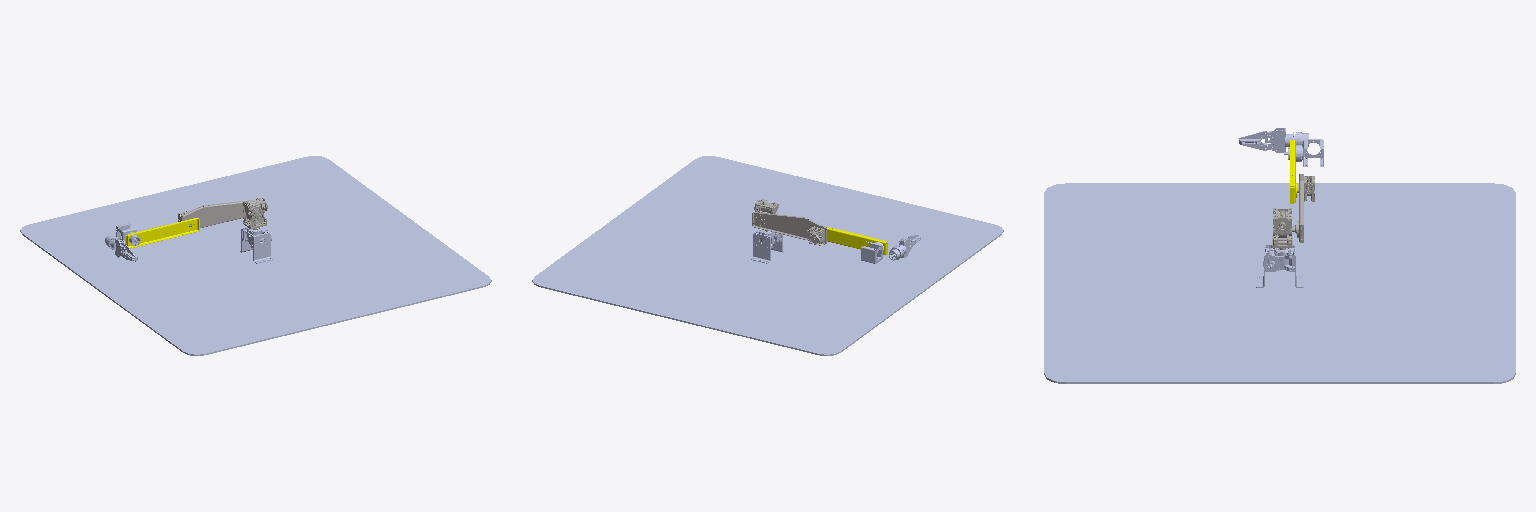
URDF robot description (skai_arm):
<?xml version="1.0" encoding="utf-8"?>
<!-- This URDF was automatically created by SolidWorks to URDF Exporter! Originally created by Stephen Brawner (brawner@gmail.com) 
     Commit Version: 1.6.0-4-g7f85cfe  Build Version: 1.6.7995.38578
     For more information, please see http://wiki.ros.org/sw_urdf_exporter -->
<robot
  name="skai_arm">
  <link
    name="base_link">
    <inertial>
      <origin
        xyz="6.661E-05 -6.7654E-05 -0.0023074"
        rpy="0 0 0" />
      <mass
        value="49.417" />
      <inertia
        ixx="19.424"
        ixy="0.0001122"
        ixz="-1.4598E-06"
        iyy="19.424"
        iyz="5.3023E-06"
        izz="38.846" />
    </inertial>
    <visual>
      <origin
        xyz="0 0 0"
        rpy="0 0 0" />
      <geometry>
        <mesh
          filename="package://arm_rviz/meshes/BASE.STL" />
      </geometry>
      <material
        name="gray">
        <color
          rgba="0.79216 0.81961 0.93333 1" />
      </material>
    </visual>
    <collision>
      <origin
        xyz="0 0 0"
        rpy="0 0 0" />
      <geometry>
        <mesh
          filename="package://arm_rviz/meshes/BASE.STL" />
      </geometry>
    </collision>
  </link>
  <link
    name="J_1">
    <inertial>
      <origin
        xyz="0.0030632 -0.00037054 0.19009"
        rpy="0 0 0" />
      <mass
        value="1.089" />
      <inertia
        ixx="0.0018485"
        ixy="-1.4598E-06"
        ixz="-0.00011196"
        iyy="0.0024341"
        iyz="-5.3023E-06"
        izz="0.001692" />
    </inertial>
    <visual>
      <origin
        xyz="0 0 0"
        rpy="0 0 0" />
      <geometry>
        <mesh
          filename="package://arm_rviz/meshes/J_1.STL" />
      </geometry>
      <material
        name="gray">
        <color
          rgba="0.7451 0.73725 0.72941 1" />
      </material>
    </visual>
    <collision>
      <origin
        xyz="0 0 0"
        rpy="0 0 0" />
      <geometry>
        <mesh
          filename="package://arm_rviz/meshes/J_1.STL" />
      </geometry>
    </collision>
  </link>
  <joint
    name="ROT_1"
    type="revolute">
    <origin
      xyz="0 0.012 0.082"
      rpy="0 0 0" />
    <parent
      link="base_link" />
    <child
      link="J_1" />
    <axis
      xyz="0 0 -1" />
    <limit
      lower="-3.14"
      upper="3.14"
      effort="10"
      velocity="0.1" />
  </joint>
  <link
    name="J_2">
    <inertial>
      <origin
        xyz="-0.25856 0.13854 0.13905"
        rpy="0 0 0" />
      <mass
        value="0.721" />
      <inertia
        ixx="0.0019755"
        ixy="0.0020808"
        ixz="-3.9585E-06"
        iyy="0.004707"
        iyz="1.0786E-06"
        izz="0.00632" />
    </inertial>
    <visual>
      <origin
        xyz="0 0 0"
        rpy="0 0 0" />
      <geometry>
        <mesh
          filename="package://arm_rviz/meshes/J_2.STL" />
      </geometry>
      <material
        name="gray">
        <color
          rgba="0.7451 0.73725 0.72941 1" />
      </material>
    </visual>
    <collision>
      <origin
        xyz="0 0 0"
        rpy="0 0 0" />
      <geometry>
        <mesh
          filename="package://arm_rviz/meshes/J_2.STL" />
      </geometry>
    </collision>
  </link>
  <joint
    name="PITCH_1"
    type="revolute">
    <origin
      xyz="0 -0.046 0.194"
      rpy="-1.5708 0.5236 0" />
    <parent
      link="J_1" />
    <child
      link="J_2" />
    <axis
      xyz="0 0 -1" />
    <limit
      lower="-3.14"
      upper="0"
      effort="10"
      velocity="0.1" />
  </joint>
  <link
    name="J_3">
    <inertial>
      <origin
        xyz="-0.17796 -3.4592E-06 0.0015136"
        rpy="0 0 0" />
      <mass
        value="0.21768" />
      <inertia
        ixx="0.00022662"
        ixy="3.7932E-08"
        ixz="8.2613E-06"
        iyy="0.0045022"
        iyz="-3.6856E-09"
        izz="0.0047078" />
    </inertial>
    <visual>
      <origin
        xyz="0 0 0"
        rpy="0 0 0" />
      <geometry>
        <mesh
          filename="package://arm_rviz/meshes/J_3.STL" />
      </geometry>
      <material
        name="gray">
        <color
          rgba="1 1 0 1" />
      </material>
    </visual>
    <collision>
      <origin
        xyz="0 0 0"
        rpy="0 0 0" />
      <geometry>
        <mesh
          filename="package://arm_rviz/meshes/J_3.STL" />
      </geometry>
    </collision>
  </link>
  <joint
    name="PITCH_2"
    type="revolute">
    <origin
      xyz="-0.37152 0.2145 0.103"
      rpy="3.1416 0 -0.5236" />
    <parent
      link="J_2" />
    <child
      link="J_3" />
    <axis
      xyz="0 0 -1" />
    <limit
      lower="-2.61"
      upper="2.61"
      effort="10"
      velocity="0.1" />
  </joint>
  <link
    name="J_4">
    <inertial>
      <origin
        xyz="0.0015946 0.0041989 -0.028525"
        rpy="0 0 0" />
      <mass
        value="0.2071" />
      <inertia
        ixx="0.00034764"
        ixy="1.6788E-07"
        ixz="-4.447E-08"
        iyy="0.00034785"
        iyz="-2.7415E-07"
        izz="0.00030028" />
    </inertial>
    <visual>
      <origin
        xyz="0 0 0"
        rpy="0 0 0" />
      <geometry>
        <mesh
          filename="package://arm_rviz/meshes/J_4.STL" />
      </geometry>
      <material
        name="gray">
        <color
          rgba="0.79216 0.81961 0.93333 1" />
      </material>
    </visual>
    <collision>
      <origin
        xyz="0 0 0"
        rpy="0 0 0" />
      <geometry>
        <mesh
          filename="package://arm_rviz/meshes/J_4.STL" />
      </geometry>
    </collision>
  </link>
  <joint
    name="PITCH_3"
    type="revolute">
    <origin
      xyz="-0.408999999999995 0 -0.0160000000000003"
      rpy="0 0 1.93219930379001" />
    <parent
      link="J_3" />
    <child
      link="J_4" />
    <axis
      xyz="0 0 1" />
    <limit
      lower="-3.14"
      upper="3.14"
      effort="10"
      velocity="0.1" />
  </joint>
  <link
    name="J_5">
    <inertial>
      <origin
        xyz="-0.010801 -0.028638 -0.054011"
        rpy="0 0 0" />
      <mass
        value="0.26474" />
      <inertia
        ixx="0.00046905"
        ixy="-7.8272E-06"
        ixz="-1.1352E-05"
        iyy="0.00045114"
        iyz="-2.9949E-05"
        izz="0.0004929" />
    </inertial>
    <visual>
      <origin
        xyz="0 0 0"
        rpy="0 0 0" />
      <geometry>
        <mesh
          filename="package://arm_rviz/meshes/J_5.STL" />
      </geometry>
      <material
        name="gray">
        <color
          rgba="0.79216 0.81961 0.93333 1" />
      </material>
    </visual>
    <collision>
      <origin
        xyz="0 0 0"
        rpy="0 0 0" />
      <geometry>
        <mesh
          filename="package://arm_rviz/meshes/J_5.STL" />
      </geometry>
    </collision>
  </link>
  <joint
    name="ROT_2"
    type="revolute">
    <origin
      xyz="0.023514 0.062204 -0.0725"
      rpy="-1.5708 0.3614 2.7802" />
    <parent
      link="J_4" />
    <child
      link="J_5" />
    <axis
      xyz="0 0 -1" />
    <limit
      lower="-3.14"
      upper="3.14"
      effort="10"
      velocity="0.1" />
  </joint>
  <link
    name="J_6">
    <inertial>
      <origin
        xyz="-0.0023982 -8.4489E-05 -0.19286"
        rpy="0 0 0" />
      <mass
        value="0.3973" />
      <inertia
        ixx="0.00032473"
        ixy="6.6401E-07"
        ixz="-4.714E-08"
        iyy="0.00024386"
        iyz="-5.5297E-09"
        izz="0.00026347" />
    </inertial>
    <visual>
      <origin
        xyz="0 0 0"
        rpy="0 0 0" />
      <geometry>
        <mesh
          filename="package://arm_rviz/meshes/J_6.STL" />
      </geometry>
      <material
        name="gray">
        <color
          rgba="0.79216 0.81961 0.93333 1" />
      </material>
    </visual>
    <collision>
      <origin
        xyz="0 0 0"
        rpy="0 0 0" />
      <geometry>
        <mesh
          filename="package://arm_rviz/meshes/J_6.STL" />
      </geometry>
    </collision>
  </link>
  <joint
    name="ROT_3"
    type="revolute">
    <origin
      xyz="-0.12301 -0.32542 -0.0695"
      rpy="1.221 -1.5708 0" />
    <parent
      link="J_5" />
    <child
      link="J_6" />
    <axis
      xyz="0 0 1" />
    <limit
      lower="-3.14"
      upper="3.14"
      effort="10"
      velocity="0.1" />
  </joint>
</robot>

--- Facts derived from the render (not from the file) ---
3 views of the same robot in one strip: view 1: azimuth 30°, elevation 25°; view 2: azimuth 150°, elevation 25°; view 3: azimuth 270°, elevation 25° (orthographic).
Robot: skai_arm — 7 links, 6 joints (6 revolute); root link base_link; default pose: every joint at zero.
Visible links, largest first — view 1: base_link, J_2, J_3, J_1; view 2: base_link, J_2, J_3; view 3: base_link, J_6, J_1, J_2.
Link boxes in pixels (left/top/right/bottom): base_link: left=20, top=156, right=491, bottom=355; J_2: left=178, top=200, right=259, bottom=227; J_3: left=126, top=218, right=199, bottom=248; J_1: left=243, top=198, right=267, bottom=229; base_link: left=532, top=156, right=1003, bottom=355; J_2: left=752, top=212, right=826, bottom=245; J_3: left=825, top=226, right=887, bottom=255; base_link: left=1044, top=183, right=1515, bottom=383; J_6: left=1239, top=128, right=1308, bottom=152; J_1: left=1272, top=208, right=1292, bottom=249; J_2: left=1292, top=174, right=1314, bottom=242.
Bounding box of the posed robot: 2.2 × 2.2 × 0.3827 m (x, y, z).
6 mesh visuals loaded from 7 distinct referenced files (6 binary STL); not drawn: 1 (reference not matched to a file when rendering).
